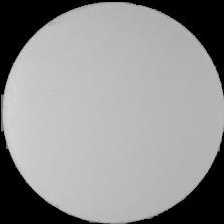0143-1300: (0, 0, 224, 224)
